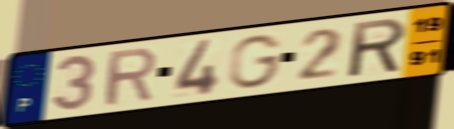2: (296, 25, 346, 83)
3: (50, 53, 97, 114)
4: (173, 37, 222, 98)
G: (228, 33, 286, 91)
R: (348, 15, 409, 80), (103, 45, 159, 109)
